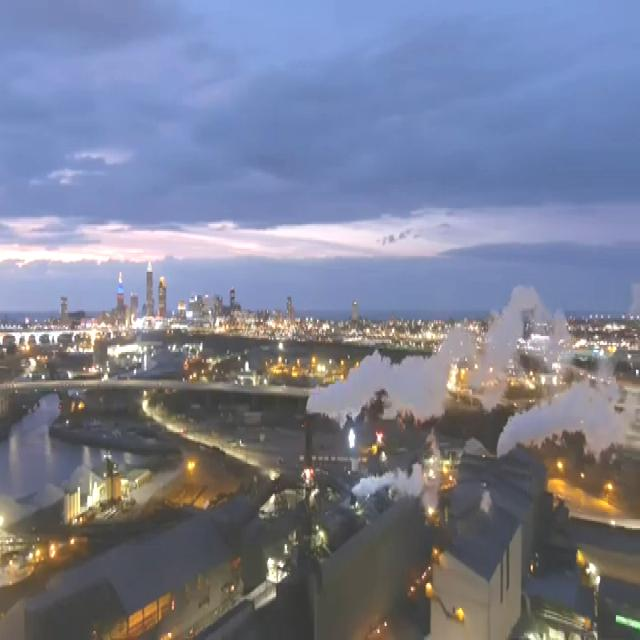smoke: (307, 329, 466, 423), (500, 377, 638, 466), (351, 425, 426, 517)
